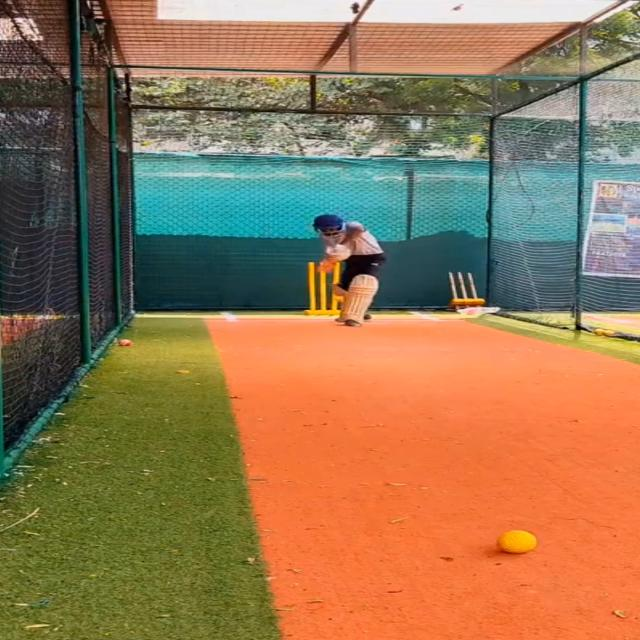ball: (334, 296, 344, 302)
stump: (304, 261, 342, 315)
